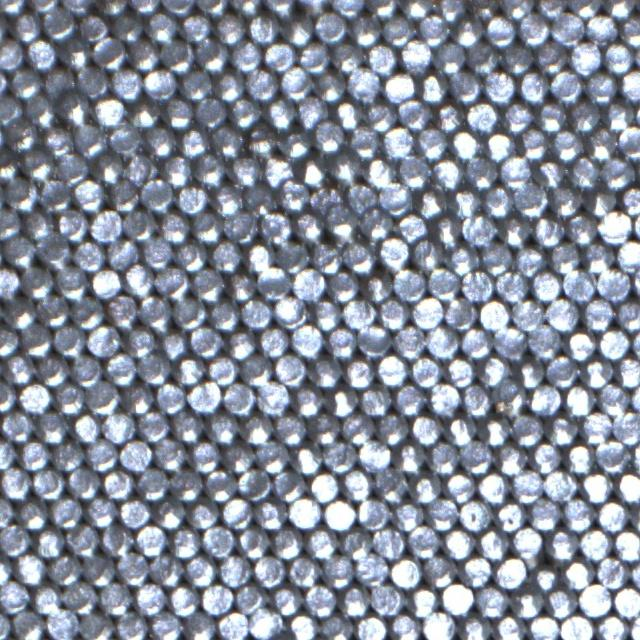tool: (356, 437, 391, 471), (580, 468, 614, 502), (348, 67, 382, 101), (88, 264, 122, 298), (405, 583, 439, 617), (66, 465, 100, 499), (123, 206, 157, 240), (100, 522, 134, 556), (578, 582, 612, 616), (482, 128, 516, 162), (322, 439, 356, 473), (516, 11, 550, 45), (597, 266, 631, 300), (92, 36, 126, 70), (545, 296, 579, 330), (534, 41, 568, 75), (594, 439, 628, 473), (543, 468, 577, 502), (550, 12, 584, 46), (339, 467, 373, 501), (584, 11, 618, 45), (38, 179, 72, 213), (41, 64, 75, 98), (528, 324, 562, 358), (493, 324, 527, 358), (104, 351, 138, 385), (374, 468, 408, 502), (492, 382, 527, 415), (52, 322, 85, 356), (89, 207, 122, 241), (406, 524, 439, 558), (400, 38, 433, 72), (528, 496, 561, 530), (228, 94, 262, 127), (274, 294, 308, 327), (581, 296, 614, 330), (356, 496, 390, 529), (568, 40, 602, 73), (50, 494, 83, 528), (51, 437, 84, 471), (517, 69, 550, 103), (444, 296, 478, 329), (246, 66, 279, 100), (118, 495, 152, 528), (144, 66, 177, 100), (303, 583, 337, 616), (546, 412, 579, 446), (195, 94, 228, 128), (178, 10, 212, 43), (255, 381, 289, 414), (19, 321, 52, 355), (37, 235, 71, 268), (229, 37, 262, 71), (440, 581, 474, 614), (191, 267, 225, 300), (66, 522, 99, 556), (36, 292, 70, 325), (561, 497, 594, 531), (290, 323, 324, 356), (466, 41, 500, 74), (187, 379, 221, 412), (376, 410, 409, 444), (348, 14, 382, 47), (76, 65, 110, 98), (141, 178, 175, 211), (494, 442, 527, 476), (16, 496, 49, 530), (393, 324, 426, 358), (382, 13, 416, 46), (426, 324, 459, 358), (372, 524, 405, 558), (117, 550, 150, 584), (87, 323, 121, 356), (195, 38, 228, 72), (99, 580, 132, 614), (106, 292, 139, 326), (2, 296, 36, 329), (140, 294, 173, 328), (193, 152, 227, 185), (156, 264, 189, 298), (459, 440, 492, 474), (35, 352, 68, 386), (105, 236, 139, 269), (55, 264, 88, 298), (110, 9, 144, 42), (160, 38, 193, 72), (511, 412, 544, 446), (107, 178, 141, 211), (273, 352, 306, 386), (69, 352, 102, 386), (563, 266, 596, 300), (59, 94, 92, 128), (0, 408, 33, 441), (551, 69, 584, 102), (102, 409, 135, 442), (239, 411, 272, 444), (247, 11, 280, 44), (18, 381, 51, 414), (137, 408, 170, 441), (42, 6, 75, 39), (481, 184, 514, 217), (584, 70, 617, 103), (431, 156, 464, 189), (529, 382, 562, 415), (240, 295, 273, 328), (314, 9, 347, 42), (176, 181, 209, 214), (443, 470, 476, 503), (501, 41, 534, 74), (205, 411, 238, 444), (343, 296, 376, 329), (378, 236, 411, 269), (581, 355, 614, 388), (175, 239, 208, 272), (371, 582, 404, 615), (343, 240, 376, 273), (417, 12, 450, 45), (365, 41, 398, 74), (270, 583, 303, 616), (52, 381, 85, 414), (273, 411, 306, 444), (71, 294, 104, 327), (20, 265, 53, 298), (222, 381, 255, 414), (549, 184, 582, 217), (341, 411, 374, 444), (427, 381, 460, 414), (292, 267, 325, 300), (127, 37, 160, 70), (212, 11, 245, 44), (580, 410, 613, 443), (48, 552, 81, 585), (253, 553, 286, 586), (179, 67, 212, 100), (228, 153, 261, 186), (135, 466, 168, 499), (355, 552, 388, 585), (332, 40, 365, 73), (600, 155, 633, 188), (578, 527, 611, 560), (2, 232, 35, 265), (498, 214, 531, 247), (326, 384, 359, 417), (76, 12, 109, 45), (74, 122, 107, 155), (451, 15, 484, 48), (511, 298, 544, 331), (85, 381, 118, 414), (514, 183, 547, 216), (545, 527, 578, 560), (551, 128, 584, 161), (296, 95, 329, 128), (359, 383, 392, 416), (510, 469, 543, 502), (64, 580, 97, 613), (46, 607, 79, 640), (338, 526, 371, 559), (108, 122, 141, 155), (2, 351, 35, 384), (124, 325, 157, 358), (218, 553, 251, 586), (239, 469, 272, 502), (461, 268, 494, 301), (206, 353, 239, 386), (510, 585, 543, 618), (210, 123, 243, 156), (279, 127, 312, 160), (307, 411, 340, 444), (281, 13, 314, 46), (423, 554, 456, 587), (259, 210, 292, 243), (563, 382, 596, 415), (0, 465, 32, 499), (280, 64, 312, 98), (140, 236, 174, 268), (123, 262, 155, 296), (382, 71, 416, 103), (495, 269, 529, 301), (546, 354, 580, 386), (595, 498, 629, 530), (270, 526, 304, 558), (428, 266, 460, 300), (34, 410, 68, 442), (463, 212, 497, 244), (325, 324, 357, 358), (466, 98, 498, 132), (568, 98, 600, 132), (477, 354, 511, 386), (314, 68, 346, 102), (236, 524, 268, 558), (21, 145, 53, 179), (262, 40, 296, 72), (245, 122, 277, 156), (124, 151, 158, 183), (209, 238, 241, 272), (202, 524, 235, 556), (26, 36, 58, 69), (482, 70, 515, 102), (530, 268, 562, 301), (188, 442, 221, 474), (426, 497, 459, 529), (102, 466, 134, 499), (72, 238, 105, 270), (168, 582, 200, 615), (154, 437, 186, 470), (477, 470, 510, 502), (327, 269, 360, 301), (530, 441, 562, 474), (393, 382, 426, 414), (190, 210, 223, 242), (343, 355, 375, 388), (450, 69, 482, 102), (24, 92, 57, 124), (478, 298, 511, 330), (458, 497, 491, 529), (323, 498, 356, 530), (602, 40, 634, 73), (144, 10, 177, 42), (224, 207, 256, 240), (393, 442, 426, 474), (221, 495, 254, 527), (155, 380, 187, 413), (476, 584, 508, 617), (293, 209, 325, 242), (305, 526, 338, 558), (415, 126, 448, 158), (307, 470, 339, 503), (277, 178, 309, 211), (93, 94, 126, 126), (411, 296, 443, 329), (122, 381, 154, 414), (516, 127, 549, 159), (190, 324, 222, 357), (428, 441, 460, 474), (249, 606, 281, 639), (14, 551, 46, 584), (584, 128, 617, 160), (398, 154, 431, 186), (290, 383, 323, 415), (533, 156, 566, 188), (170, 468, 202, 501), (5, 118, 38, 150), (207, 297, 239, 330), (393, 268, 426, 300), (382, 125, 414, 158), (174, 295, 206, 328), (442, 526, 475, 558), (477, 527, 510, 559), (597, 382, 630, 414), (225, 269, 257, 302), (531, 213, 564, 245), (72, 178, 105, 210), (499, 155, 532, 187), (479, 414, 511, 447), (510, 525, 542, 558), (410, 354, 442, 387), (82, 553, 115, 585), (85, 438, 117, 471), (595, 555, 628, 587), (464, 155, 497, 187), (22, 207, 54, 240), (416, 70, 448, 103), (150, 553, 183, 585), (56, 207, 88, 240), (548, 241, 581, 273), (481, 243, 514, 275), (288, 495, 320, 528), (255, 440, 288, 472), (157, 210, 190, 242), (134, 522, 166, 555), (161, 95, 193, 128), (277, 238, 310, 270), (534, 99, 566, 132), (240, 353, 272, 386), (414, 185, 447, 217), (376, 352, 408, 385), (337, 584, 370, 616), (144, 123, 176, 156), (32, 466, 64, 499), (459, 554, 492, 586), (399, 96, 431, 129), (176, 125, 209, 157), (597, 326, 630, 358), (8, 66, 41, 98), (312, 121, 345, 153), (203, 469, 236, 501), (409, 472, 442, 504), (565, 212, 598, 244), (212, 68, 244, 101), (308, 355, 341, 387), (183, 554, 216, 586), (160, 153, 192, 186), (432, 100, 465, 132), (211, 182, 244, 214), (133, 582, 166, 614), (110, 66, 142, 99), (308, 180, 341, 212), (321, 554, 354, 586), (5, 177, 38, 209), (262, 154, 295, 186), (361, 208, 394, 240), (310, 239, 342, 272), (93, 150, 125, 183), (235, 582, 268, 614), (55, 151, 88, 183), (564, 327, 596, 360), (362, 269, 394, 302), (514, 243, 546, 276), (58, 36, 91, 68), (257, 265, 290, 297), (581, 243, 615, 274), (380, 181, 412, 213), (377, 296, 409, 328), (299, 41, 331, 73), (599, 210, 631, 242), (120, 438, 152, 470), (18, 438, 50, 470), (567, 155, 599, 187), (169, 525, 201, 557), (396, 210, 428, 242), (484, 14, 516, 46), (561, 557, 593, 589), (201, 581, 233, 613), (494, 556, 526, 588), (494, 498, 526, 530), (430, 214, 462, 246), (257, 324, 289, 356), (12, 608, 44, 640), (392, 499, 424, 531), (444, 354, 476, 386), (364, 155, 396, 187), (128, 96, 160, 128), (70, 411, 102, 443), (544, 586, 576, 618), (244, 184, 276, 216), (434, 41, 466, 73), (347, 181, 379, 213), (264, 96, 296, 128), (449, 186, 481, 218), (172, 410, 204, 442), (290, 443, 322, 475), (222, 441, 254, 473), (358, 324, 390, 356), (444, 414, 476, 446), (327, 211, 359, 243), (586, 185, 618, 217), (154, 497, 186, 529), (460, 326, 492, 358), (332, 98, 364, 130), (410, 412, 442, 444), (187, 496, 219, 528), (224, 326, 256, 358), (389, 555, 421, 587), (287, 554, 319, 586), (528, 560, 560, 592), (328, 150, 360, 182), (84, 494, 116, 526), (30, 581, 62, 613), (42, 124, 74, 156), (138, 352, 170, 384), (9, 9, 41, 41), (500, 100, 532, 132), (364, 100, 396, 132), (32, 526, 64, 558), (563, 442, 595, 474), (514, 355, 546, 387), (297, 155, 329, 187), (158, 326, 190, 358), (412, 238, 444, 270), (217, 609, 250, 640), (0, 522, 31, 555), (271, 470, 304, 501), (173, 354, 206, 385), (347, 125, 380, 156), (311, 297, 342, 330), (80, 610, 114, 640), (450, 128, 482, 159), (245, 243, 277, 274), (447, 244, 479, 275), (461, 384, 492, 416), (602, 99, 634, 130), (150, 610, 183, 640), (115, 610, 148, 640), (422, 610, 455, 640), (254, 498, 286, 528), (286, 610, 318, 640), (183, 611, 216, 640), (320, 612, 353, 640), (612, 584, 640, 617), (492, 613, 526, 640), (354, 612, 386, 640), (560, 612, 592, 640), (612, 528, 640, 560), (612, 410, 640, 442), (388, 612, 420, 640), (0, 580, 28, 612), (596, 613, 628, 640), (528, 613, 560, 640), (458, 614, 490, 640), (614, 354, 640, 386), (614, 470, 640, 502), (615, 238, 640, 270), (615, 298, 640, 330), (0, 38, 24, 70), (617, 125, 640, 158), (0, 93, 23, 125), (619, 67, 640, 100), (618, 184, 640, 215), (619, 14, 640, 46), (0, 265, 20, 298), (401, 0, 434, 20), (0, 147, 20, 180), (0, 206, 20, 238), (434, 0, 466, 20), (602, 0, 636, 18), (500, 0, 532, 19), (466, 0, 498, 19), (0, 323, 18, 356), (567, 0, 601, 17), (365, 0, 398, 17), (0, 437, 17, 470), (0, 379, 16, 412), (331, 0, 364, 15), (535, 0, 567, 15), (0, 494, 14, 528), (262, 0, 296, 14), (160, 0, 194, 14), (96, 0, 128, 14), (126, 0, 160, 13), (0, 554, 13, 585)
